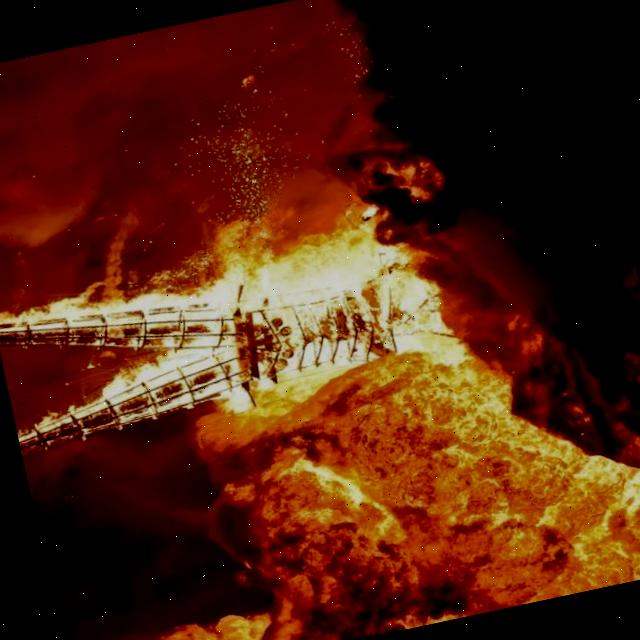fire: (0, 184, 470, 506), (229, 314, 640, 640), (61, 589, 304, 640)
